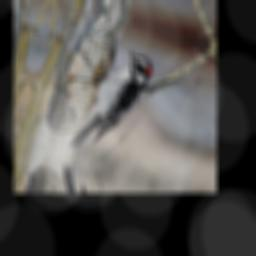Woodpecker: (67, 37, 155, 168)
